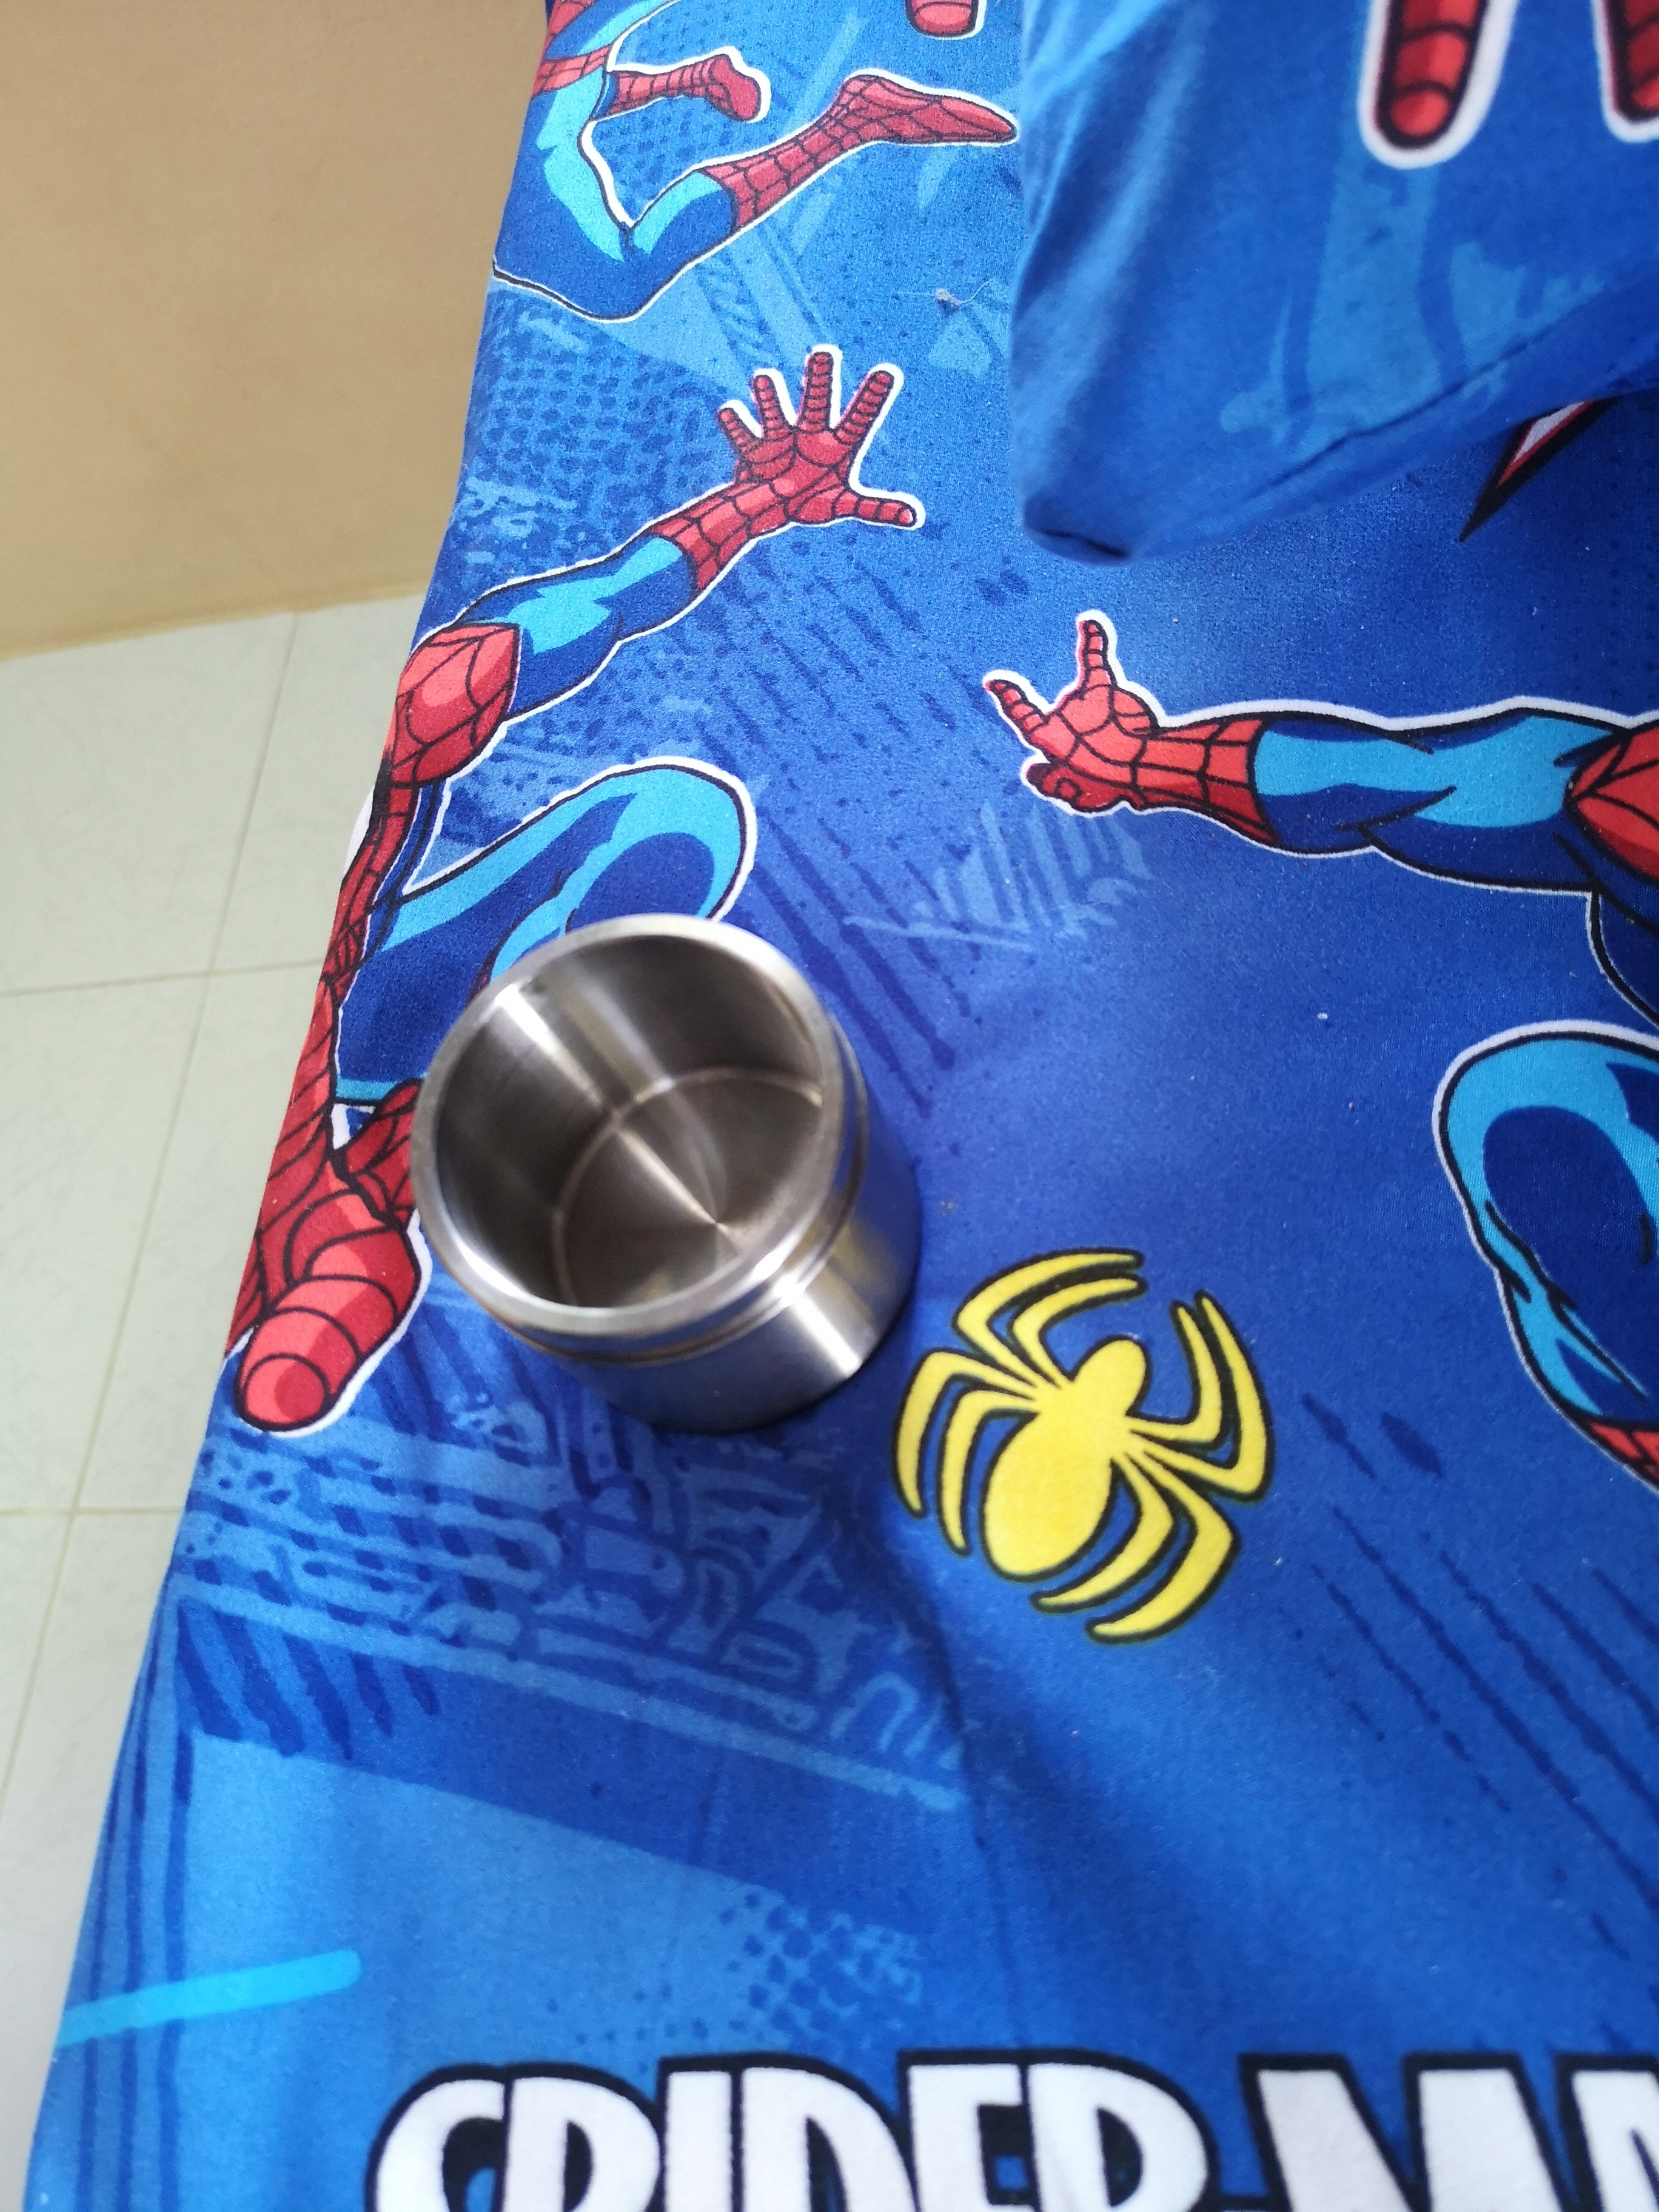ลูกสูบดิสเบรค: (345, 902, 969, 1409)
